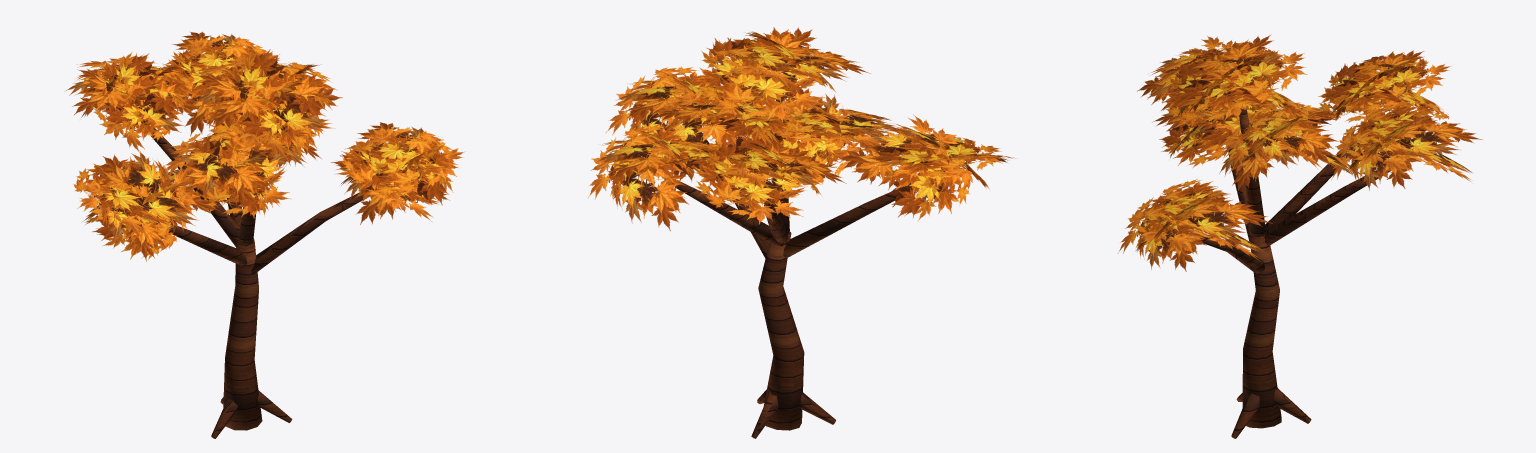
The model's file is tree_maple_gold.glb.
3 views of the same model, side by side, from view 1: azimuth 30°, elevation 25°; view 2: azimuth 150°, elevation 25°; view 3: azimuth 270°, elevation 25° (orthographic). The views are drawn at different scales.
Visible parts, largest first — view 1: maple_canopy, maple_trunk; view 2: maple_canopy, maple_trunk; view 3: maple_canopy, maple_trunk.
Boxes of the visible parts, x1,y1,x2,y2 form: maple_canopy: (64, 31, 465, 261); maple_trunk: (151, 124, 372, 438); maple_canopy: (588, 27, 1015, 231); maple_trunk: (672, 88, 908, 438); maple_canopy: (1117, 34, 1482, 271); maple_trunk: (1200, 108, 1390, 438).
Bounding box in the file's own units: 7.21 × 5.86 × 5.99.
2 materials, 2 textured.
